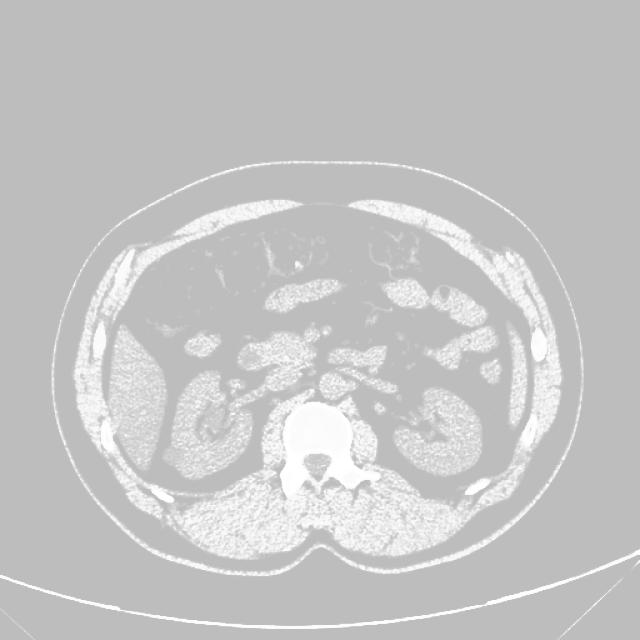cysts: (65, 179, 574, 575)
